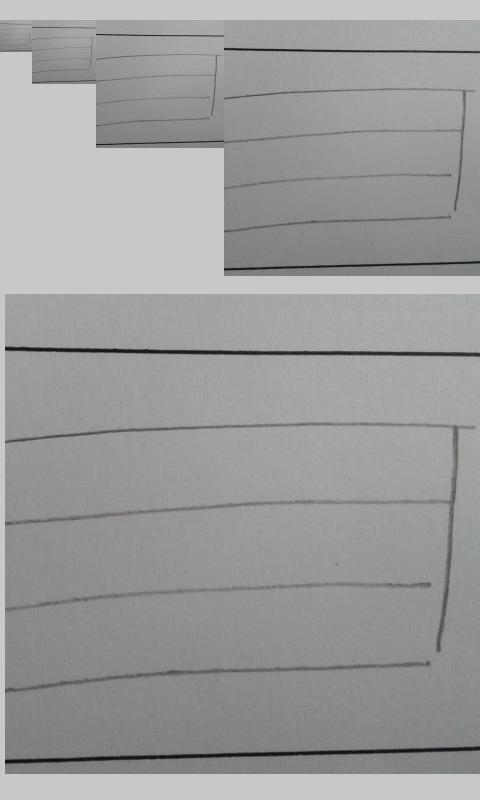list_view: (9, 419, 463, 694), (230, 86, 467, 232), (98, 51, 219, 126), (32, 36, 94, 73), (1, 28, 30, 46)
